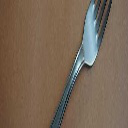fork: (48, 1, 105, 128)
